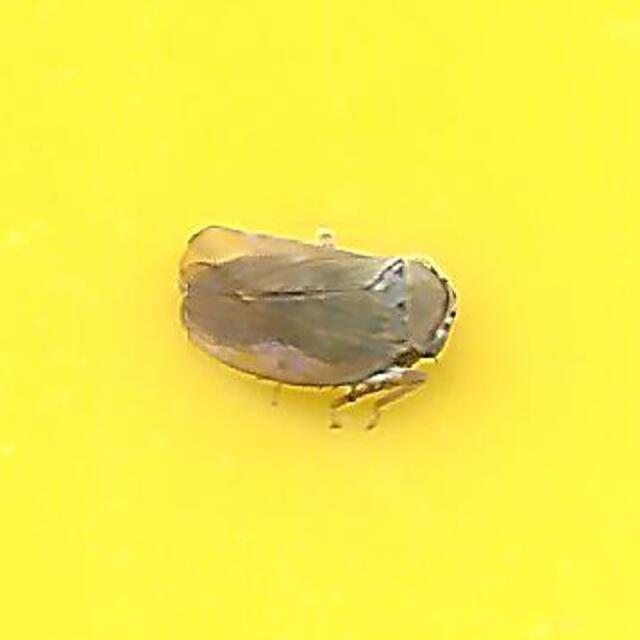Hemiptera: (179, 200, 461, 440)
